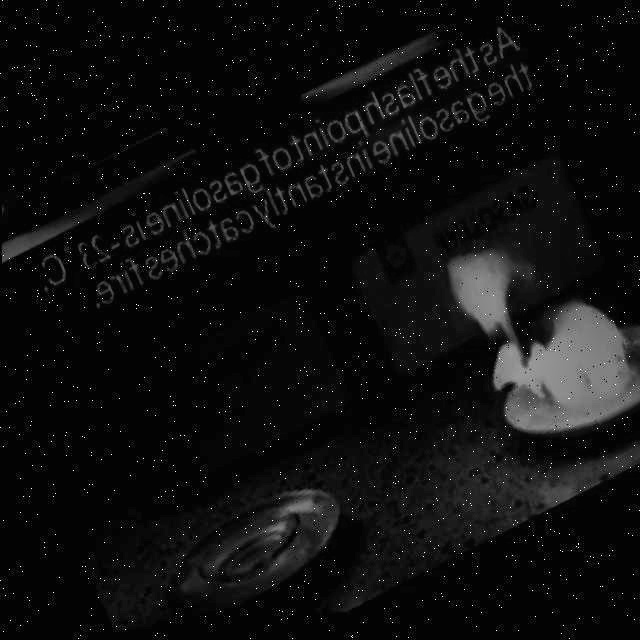Fire: (425, 194, 640, 458)
